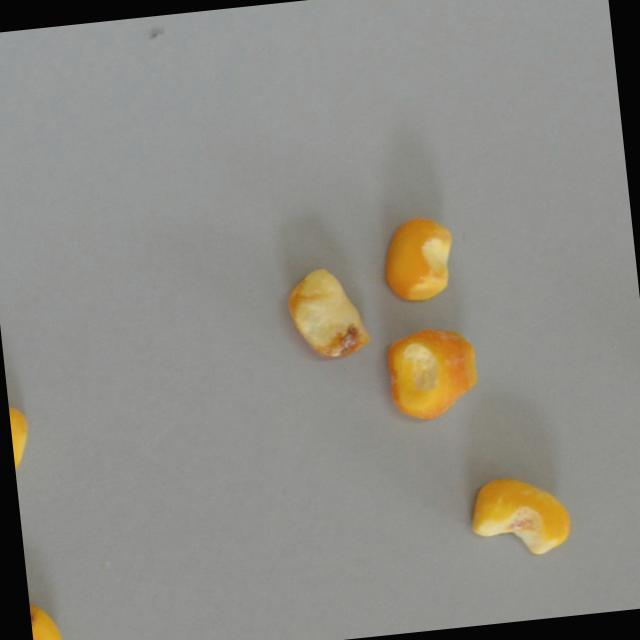dañado: (465, 471, 574, 561), (280, 260, 372, 364), (27, 589, 62, 640)
no_canjicado: (380, 215, 456, 303), (6, 395, 33, 472)
pelicula: (385, 325, 481, 422)
